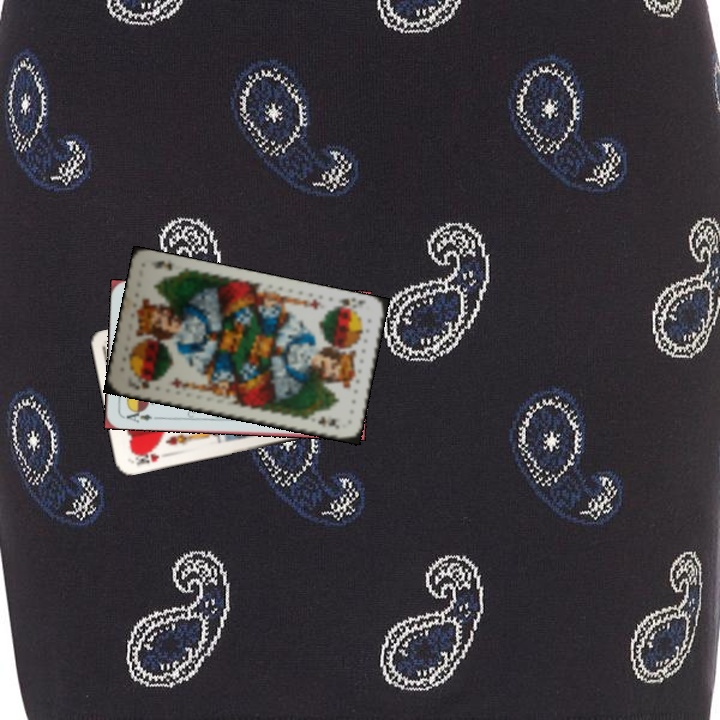EA: (120, 405, 154, 425)
HK: (131, 447, 161, 468)
SK: (132, 375, 160, 393), (330, 294, 357, 311)
